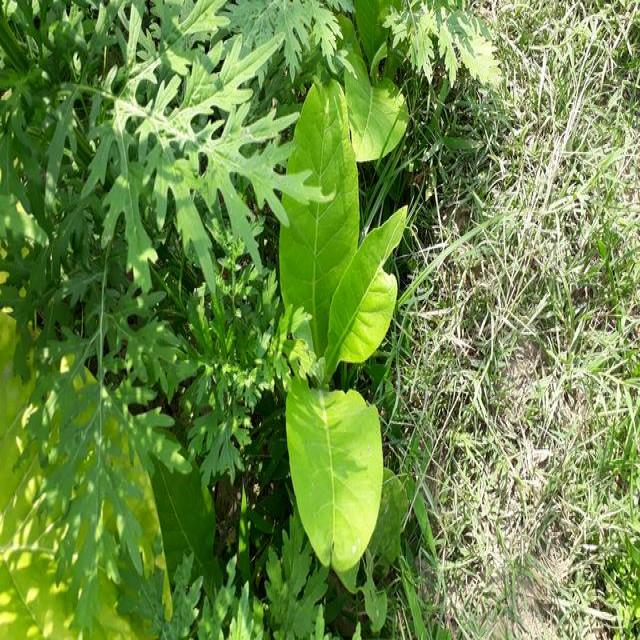crop: (279, 66, 413, 571)
